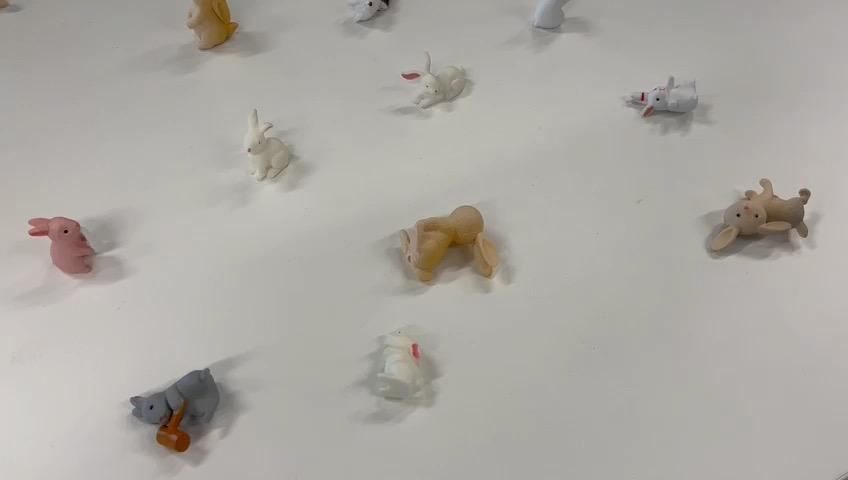pet: (393, 190, 526, 289), (693, 178, 819, 264), (133, 350, 237, 454), (348, 330, 462, 423), (241, 85, 309, 208), (386, 45, 497, 120), (26, 205, 109, 285), (151, 0, 249, 59), (626, 78, 708, 138), (518, 0, 597, 62), (346, 0, 405, 35)
